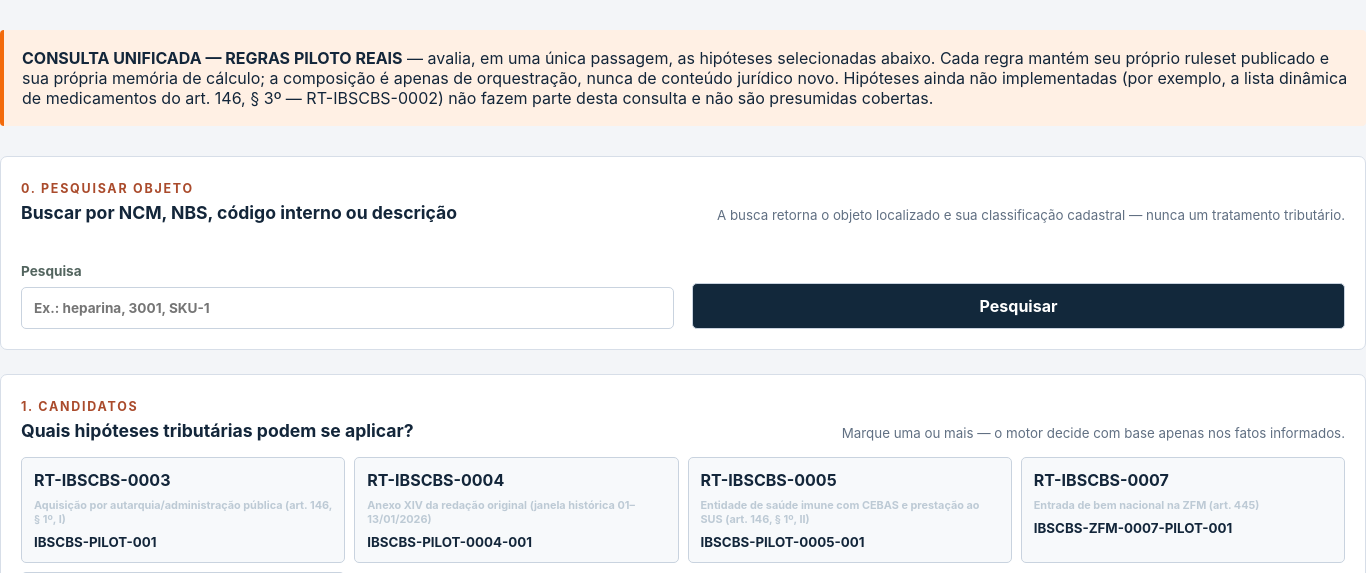
Test: UnifiedConsultation › shows no-coverage explicitly when discovery has no governed candidate
The image size is (1366, 573).
In the field labelled "Pesquisa": point(348, 308) [21,287,674,329], type "construção"
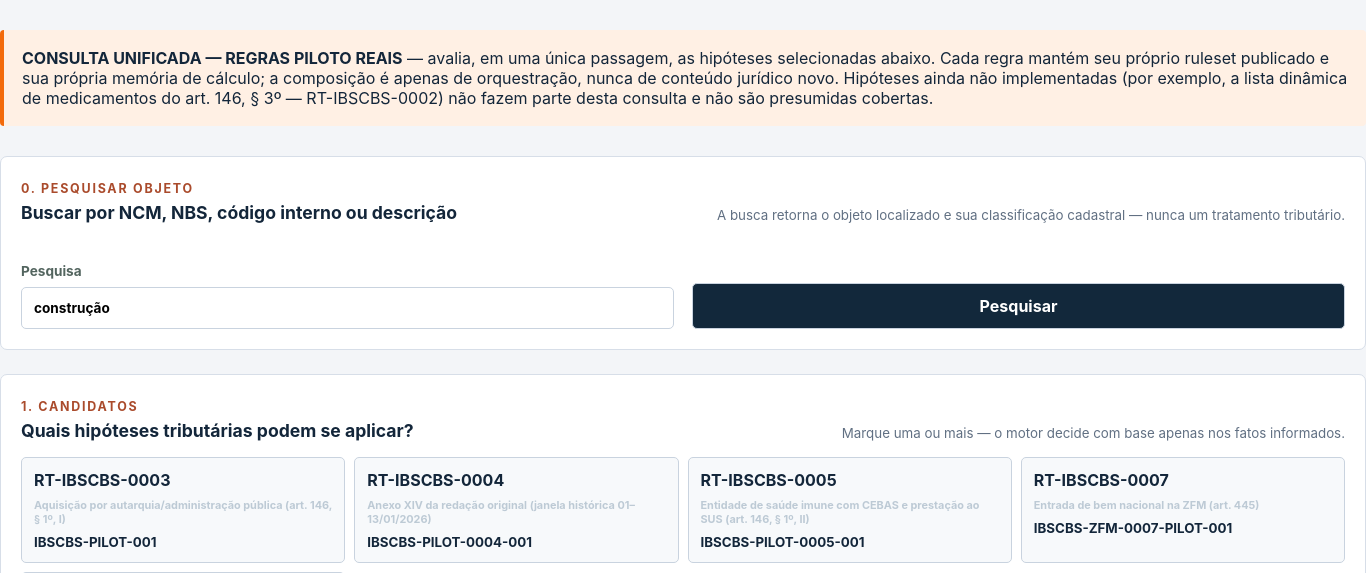
Click the button "Pesquisar": point(1018, 306) [692,283,1345,329]
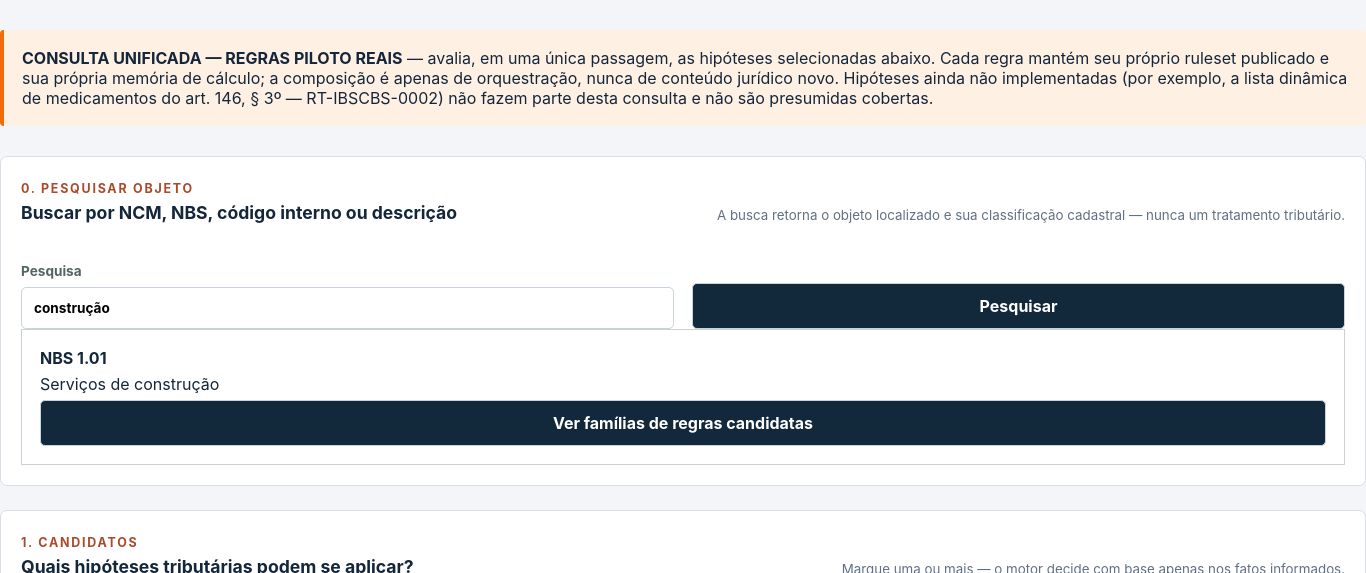
Result: the text "Serviços de construção" is shown at [40,374,219,394]
Click the button "Ver famílias de regras candidatas": point(683, 423) [40,400,1326,446]
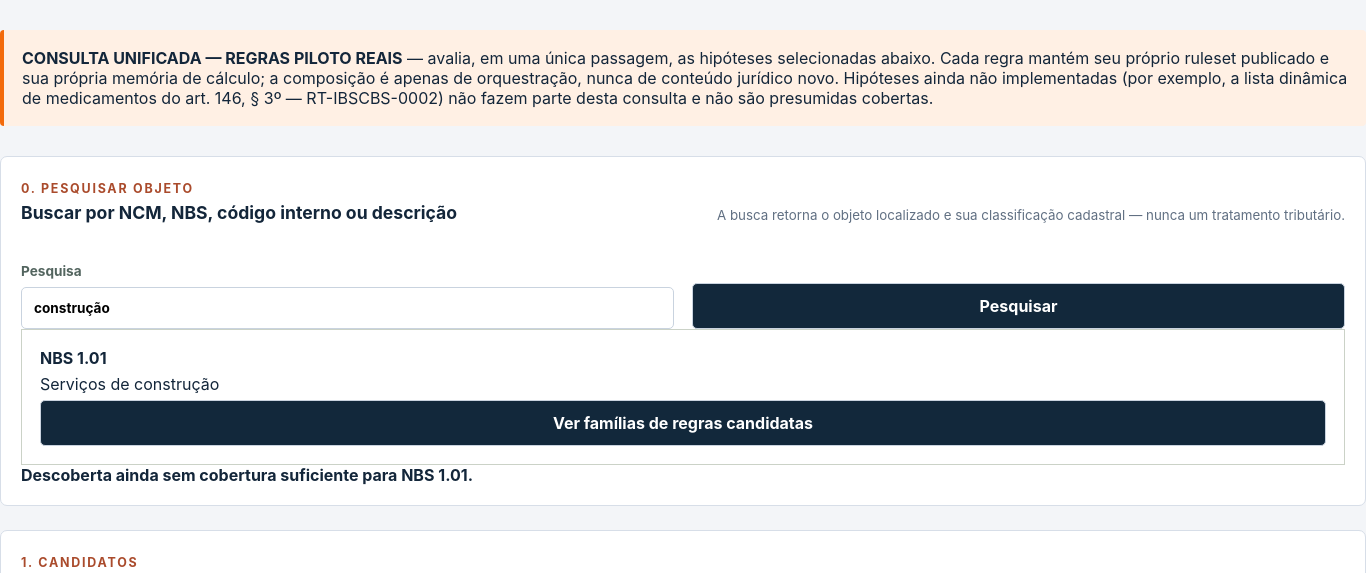
Result: the text "Descoberta ainda sem cobertura suficiente para NBS 1.01." is shown at [21,465,473,485]
